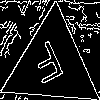F: (27, 39, 70, 94)
